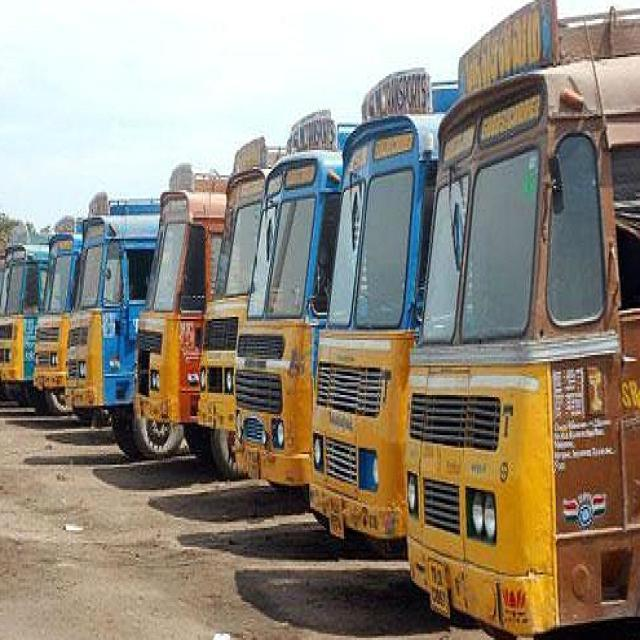truck_front: (400, 27, 638, 630), (310, 63, 452, 550)
